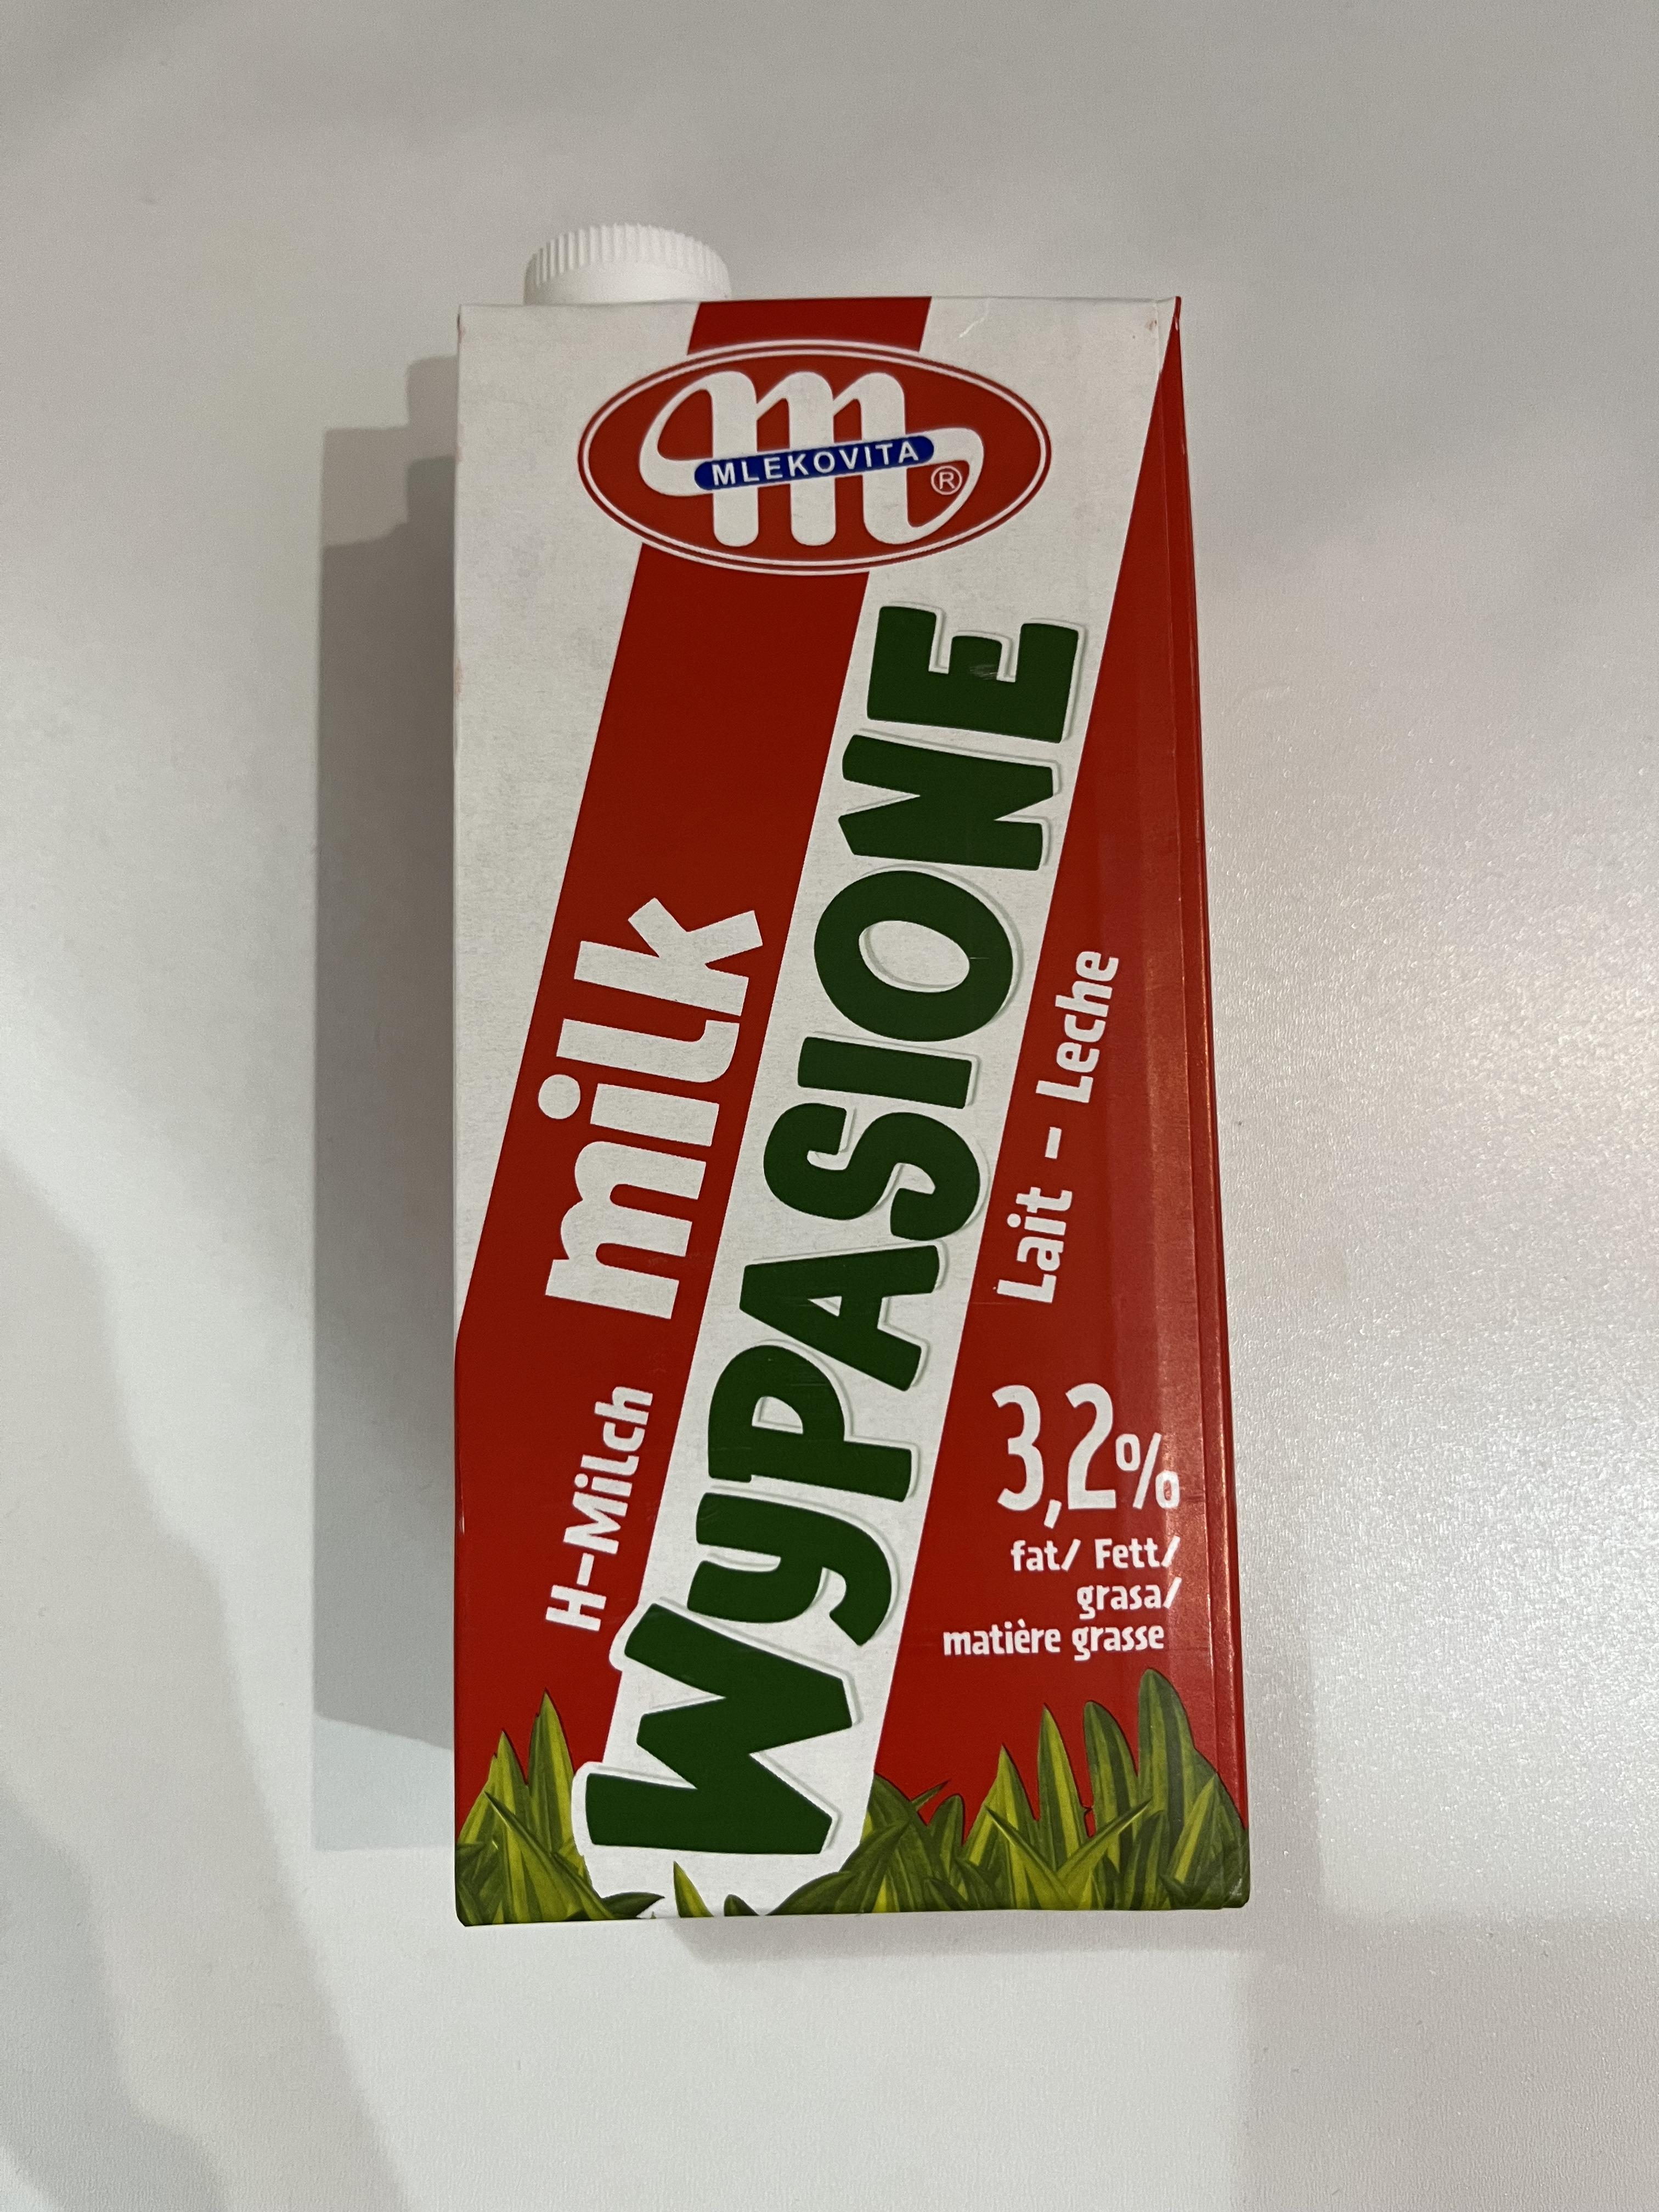Milk: (455, 296, 1256, 1928)
